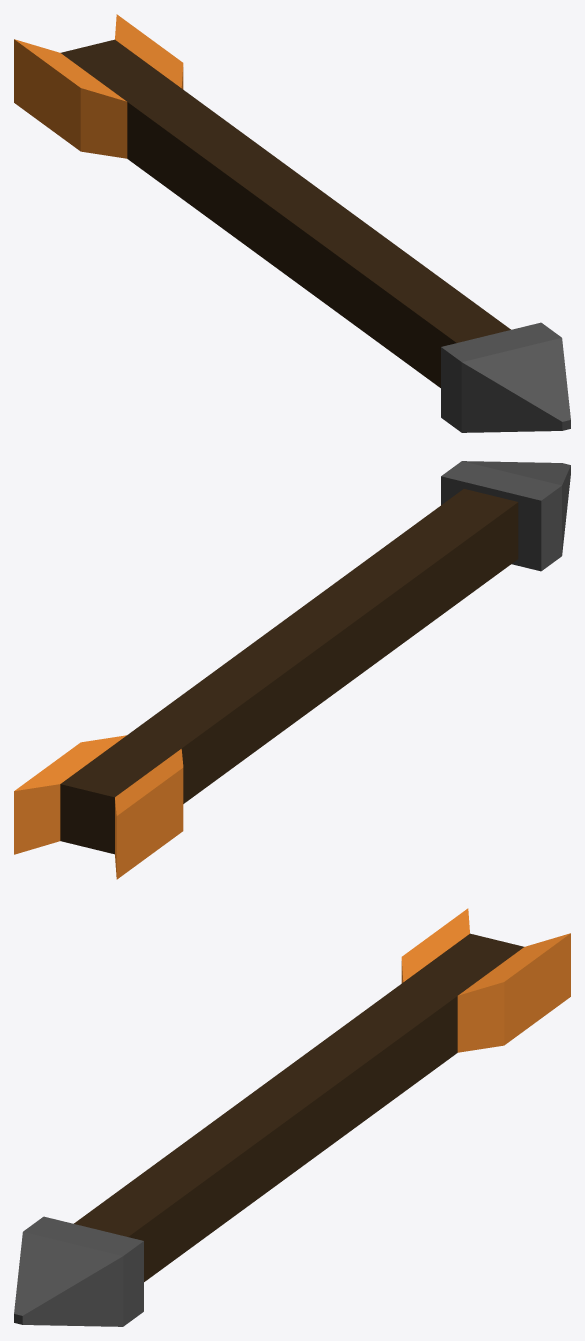
The model's file is Hero_Arrow.fbx.
3 renders of one model, top to bottom at view 1: azimuth 30°, elevation 25°; view 2: azimuth 150°, elevation 25°; view 3: azimuth 330°, elevation 25°, orthographic.
Visible parts, largest first — view 1: Arrow_Hero; view 2: Arrow_Hero; view 3: Arrow_Hero.
Part boxes in pixels (<box>): Arrow_Hero: <box>14,14,570,432</box>; Arrow_Hero: <box>14,461,570,879</box>; Arrow_Hero: <box>14,908,570,1326</box>.
Bounding box in the file's own units: 0.0685 × 0.0451 × 0.5793.
